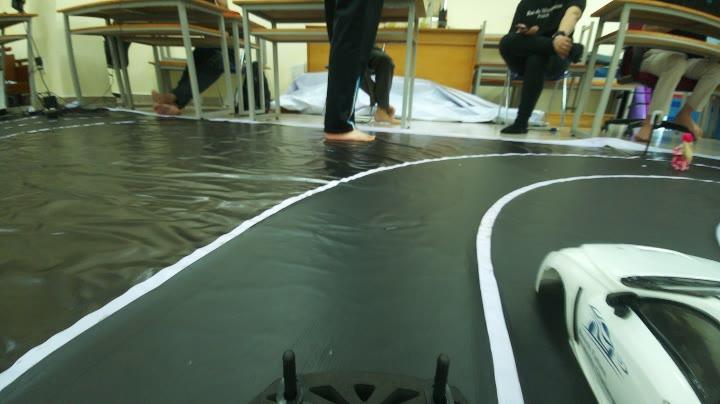car: (537, 210, 720, 404)
